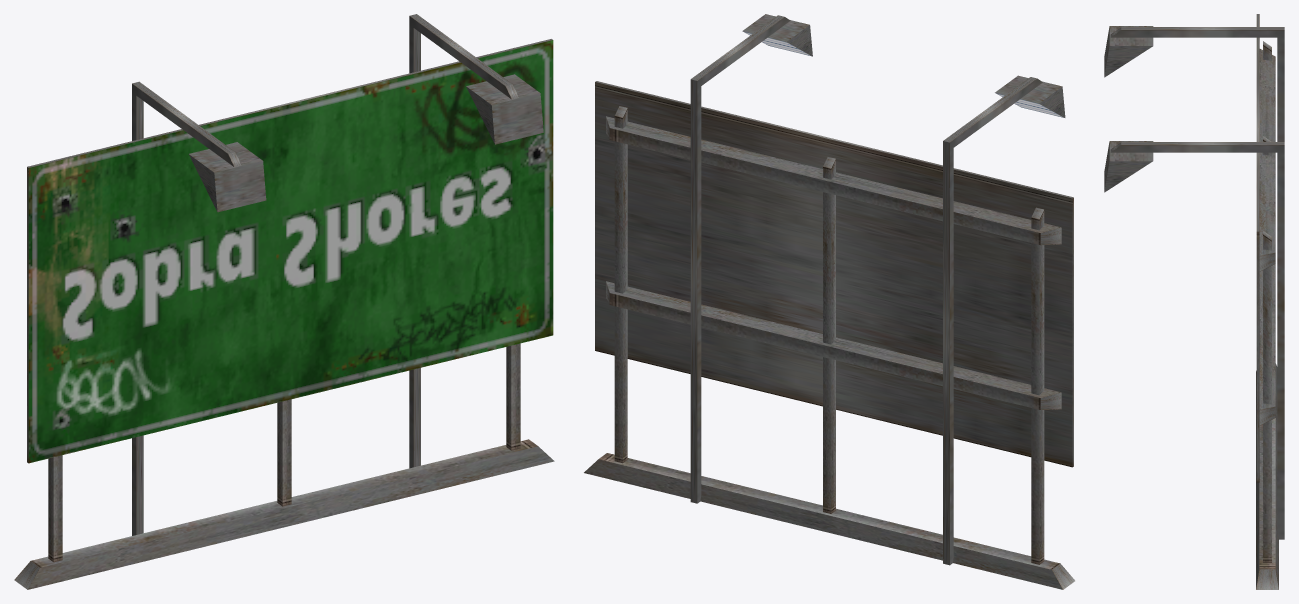
The model's file is sign_under_hanging.fbx.
The picture shows the model from 3 angles, left to right: view 1: azimuth 30°, elevation 25°; view 2: azimuth 150°, elevation 25°; view 3: azimuth 270°, elevation 25°; orthographic projection. The views are drawn at different scales.
Visible parts, largest first — view 1: mesh_1, mesh_0; view 2: mesh_0, mesh_2; view 3: mesh_0.
Part boxes in pixels (x1=…): mesh_1: x1=28, y1=40, x2=553, y2=463; mesh_0: x1=14, y1=14, x2=554, y2=589; mesh_0: x1=584, y1=14, x2=1074, y2=589; mesh_2: x1=743, y1=31, x2=1064, y2=117; mesh_0: x1=1104, y1=14, x2=1284, y2=589.
Size of the model in its own units: 380 by 320 by 133.
3 materials, 3 textured.
